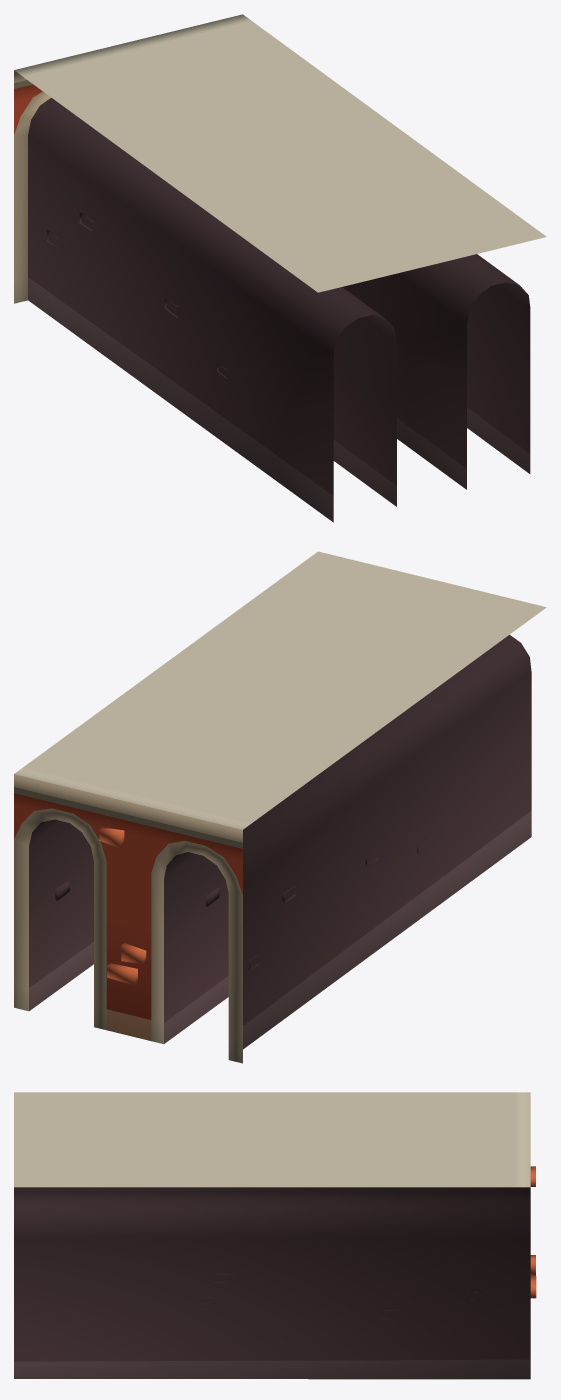
File: CityArch_Double.fbx
3 views of the same model, one above another, from view 1: azimuth 30°, elevation 25°; view 2: azimuth 150°, elevation 25°; view 3: azimuth 270°, elevation 25° (orthographic). The views are drawn at different scales.
Parts seen in each view (by area): view 1: CityArch_Double; view 2: CityArch_Double; view 3: CityArch_Double.
Boxes of the visible parts, x1,y1,x2,y2 form: CityArch_Double: (14, 14, 546, 522); CityArch_Double: (14, 551, 546, 1063); CityArch_Double: (14, 1092, 536, 1379).
Size of the model in its own units: 421 by 411 by 1000.
